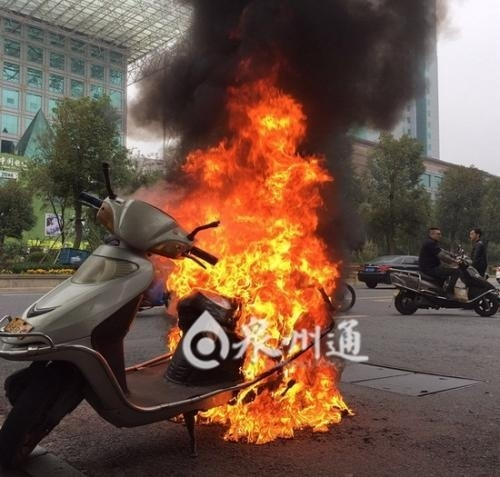fire: (154, 71, 358, 427)
